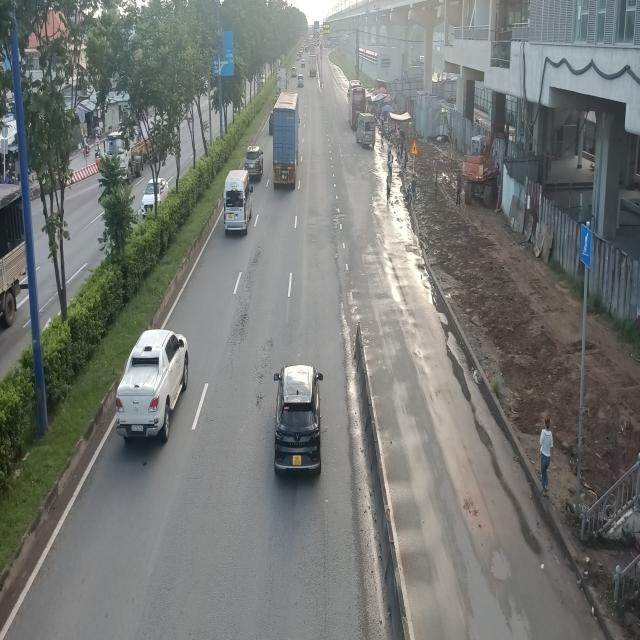car: (114, 326, 190, 443), (271, 366, 322, 478), (244, 146, 264, 182)
coach: (347, 80, 366, 127)
container: (271, 91, 299, 188)
van: (222, 170, 251, 238), (355, 113, 375, 148)
